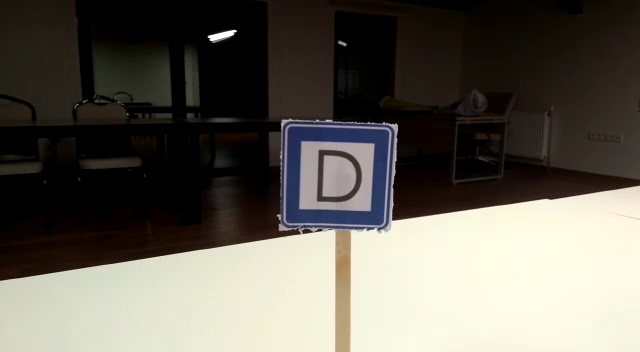durak: (279, 123, 394, 229)
